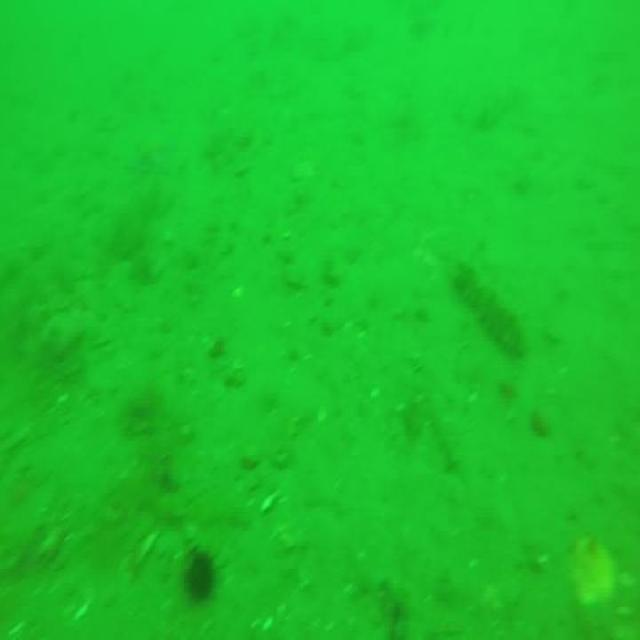echinus: (186, 546, 220, 604)
holothurian: (454, 259, 526, 364)
scallop: (578, 538, 617, 620)
